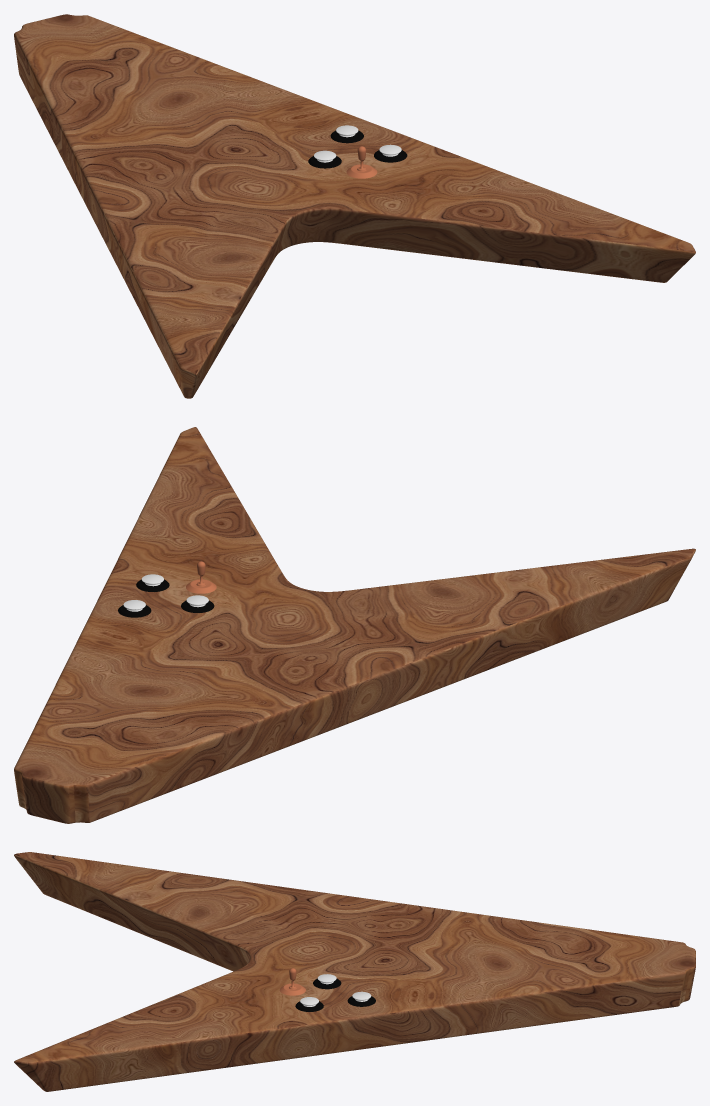
The model's file is Guitarra_V_Madera.glb.
3 renders of one model, top to bottom at view 1: azimuth 30°, elevation 25°; view 2: azimuth 150°, elevation 25°; view 3: azimuth 270°, elevation 25°, orthographic. The views are drawn at different scales.
Visible parts, largest first — view 1: Guitarra_V_Madera; view 2: Guitarra_V_Madera; view 3: Guitarra_V_Madera.
Boxes of the visible parts, <box> form: Guitarra_V_Madera: <box>14,14,695,398</box>; Guitarra_V_Madera: <box>14,427,695,823</box>; Guitarra_V_Madera: <box>14,852,695,1091</box>.
Size of the model in its own units: 1.98 by 0.2508 by 2.7.
Materials: 4 (1 with a texture image).
